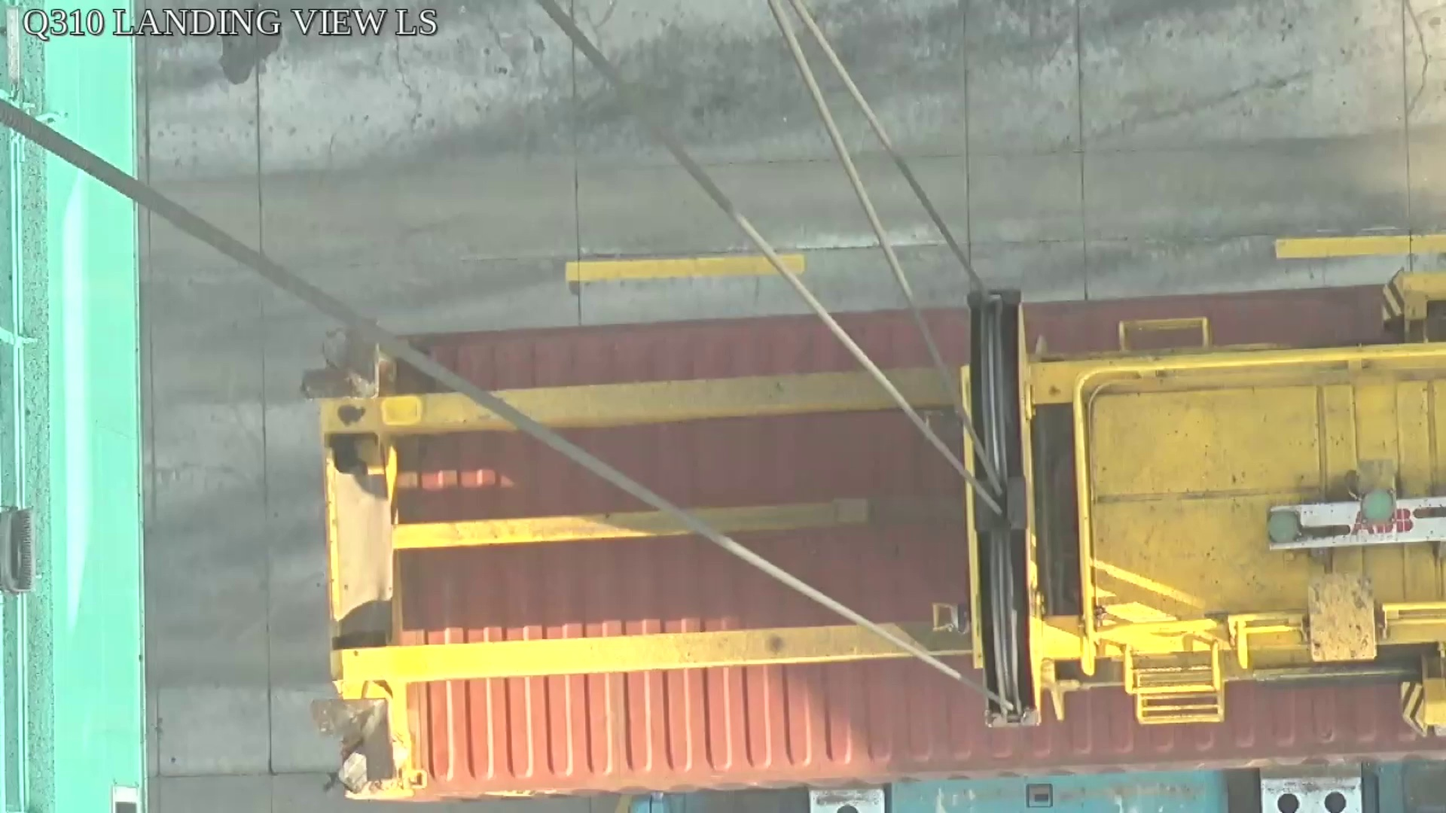aa: (958, 286, 1055, 730)
